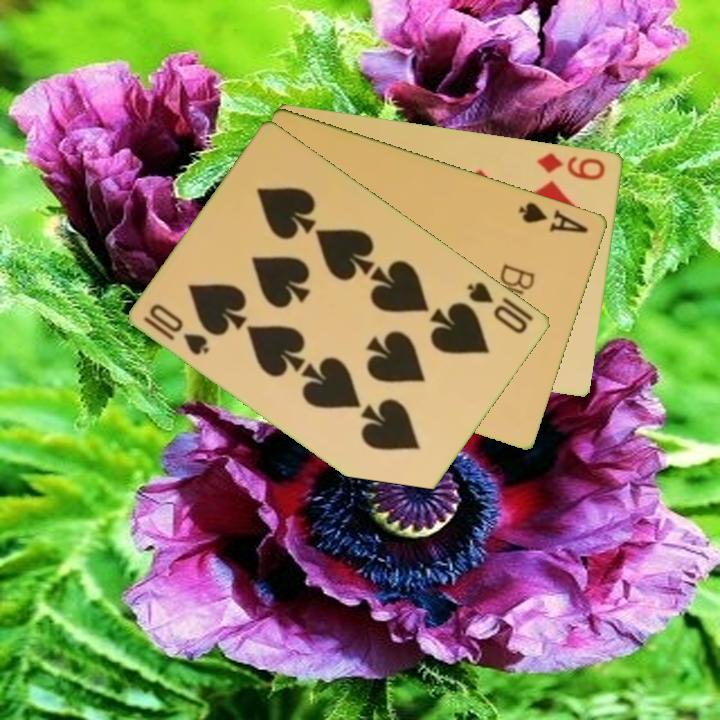10s: (464, 277, 537, 337), (140, 300, 213, 359)
9d: (534, 149, 609, 183)
As: (515, 198, 592, 236)
